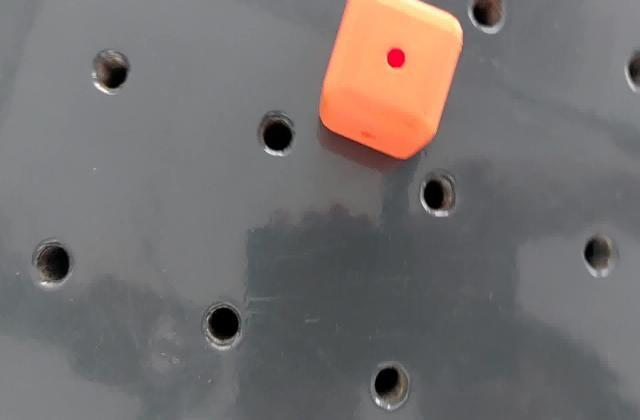cube: (318, 0, 468, 164)
